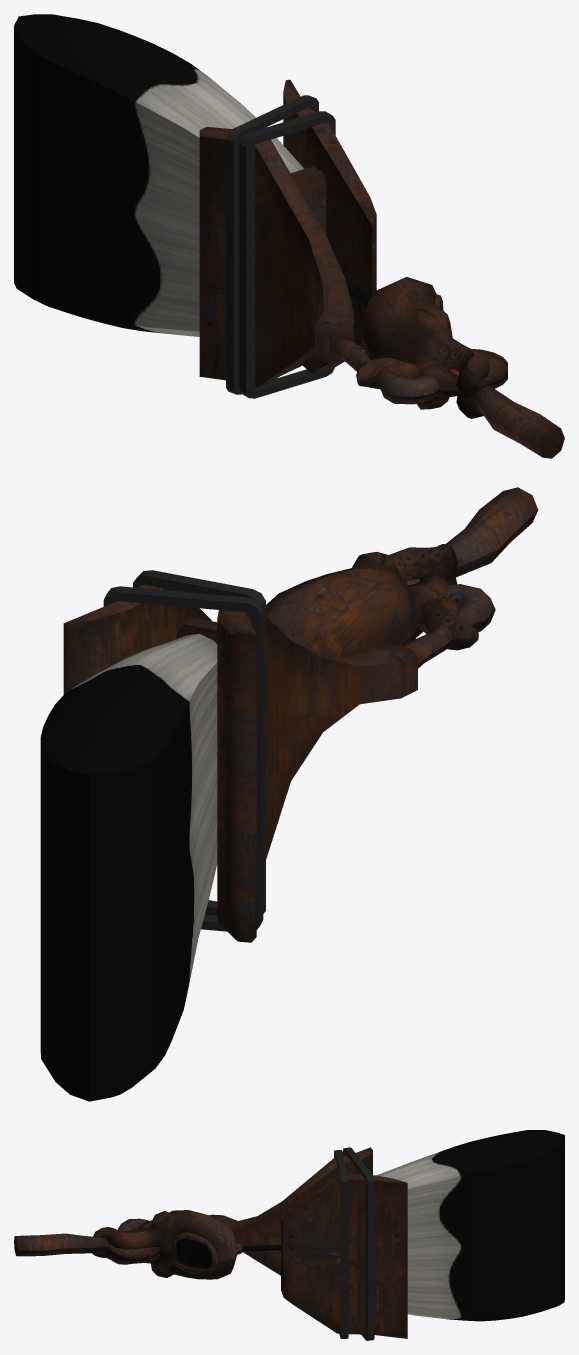
The model's file is brush.obj.
3 views of the same model, one above another, from view 1: azimuth 30°, elevation 25°; view 2: azimuth 150°, elevation 25°; view 3: azimuth 270°, elevation 25° (orthographic). The views are drawn at different scales.
Parts seen in each view (by area): view 1: brush; view 2: brush; view 3: brush.
Boxes of the visible parts, x1=… form: brush: x1=14, y1=14, x2=564, y2=458; brush: x1=40, y1=487, x2=538, y2=1101; brush: x1=14, y1=1130, x2=564, y2=1340.
Bounding box in the file's own units: 5.2 × 8.5 × 23.87.
Materials: 1 (1 with a texture image).
